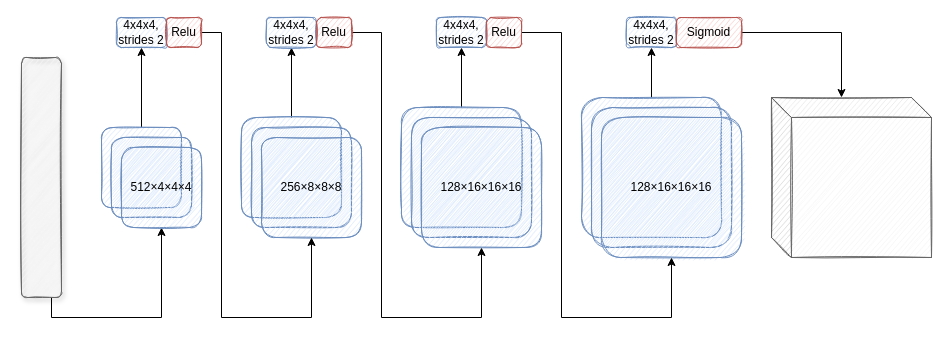
The diagram is 949 pixels wide and 343 high, and some of its shapes have lost their labels. The shapes that lost their labels are listed below. From the top down, each one's centre as x and y in pixels, then its label:
At [42,178]: "200-dim latent vector noise".
At [851,177]: "3D Voxel Space 64×64×64".
